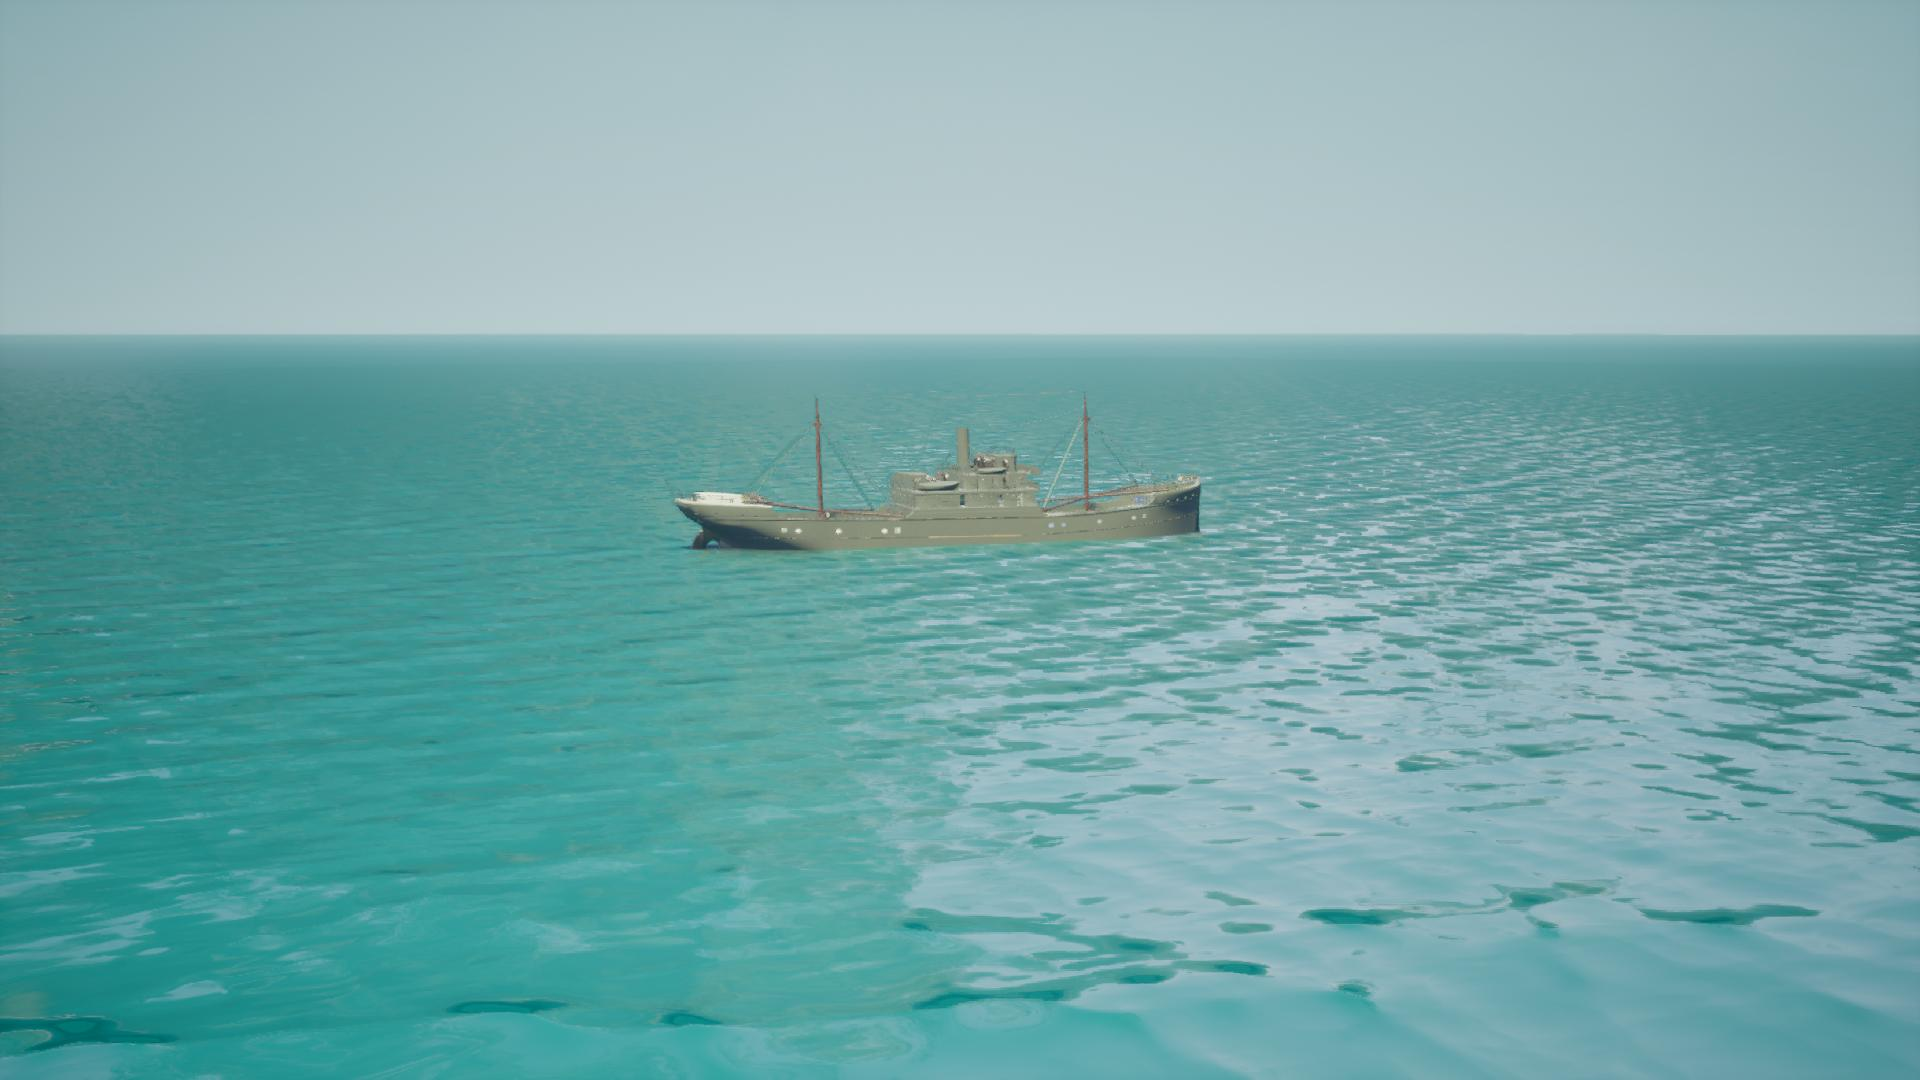Fishing Boat: (675, 394, 1207, 554)
